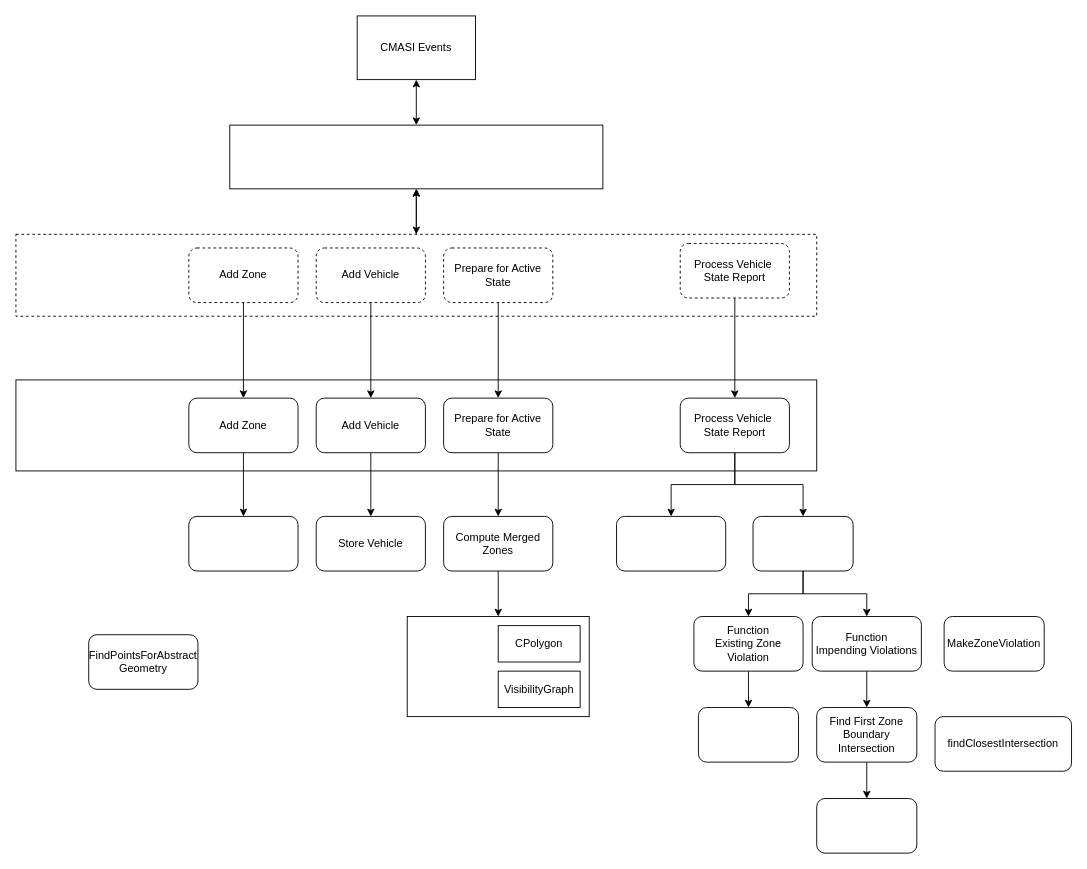
This 1087x869 diagram has some shape labels left out. The shapes that lost their labels are listed below. From the top down, each one's box as (x1, y1, x2, y2) in pixels, then its label:
(229, 124, 603, 189): ZoneAlertService (OpenUxAS)
(15, 233, 817, 316): Interface ZoneAlertComputer
(15, 379, 817, 471): SimpleZoneAlertComputer
(188, 516, 298, 571): Store Declared Zone
(616, 516, 726, 571): Find Initial Keep-In Zone
(752, 516, 853, 571): Find Violations
(406, 616, 589, 717): Authoritative Zone Polygon Model
(698, 707, 799, 762): Find if In Zone
(816, 798, 917, 853): Compute Linear Trajectory
